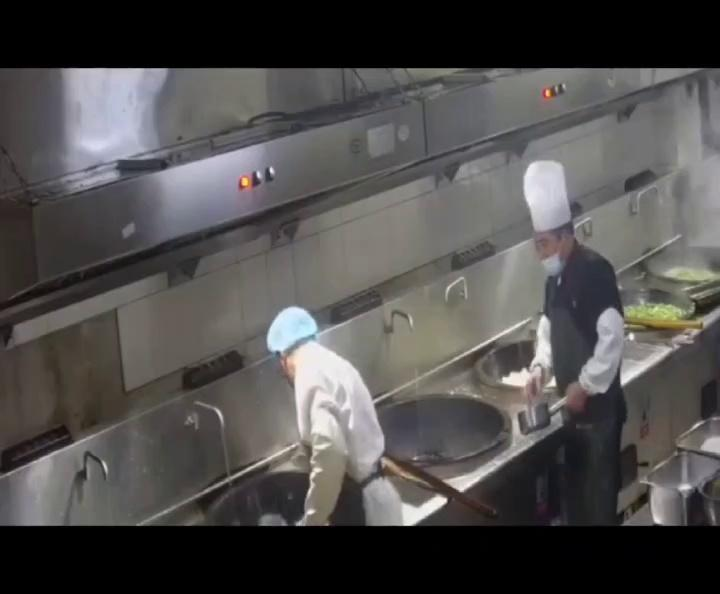gloves: (269, 303, 317, 352)
mask: (535, 246, 566, 276)
